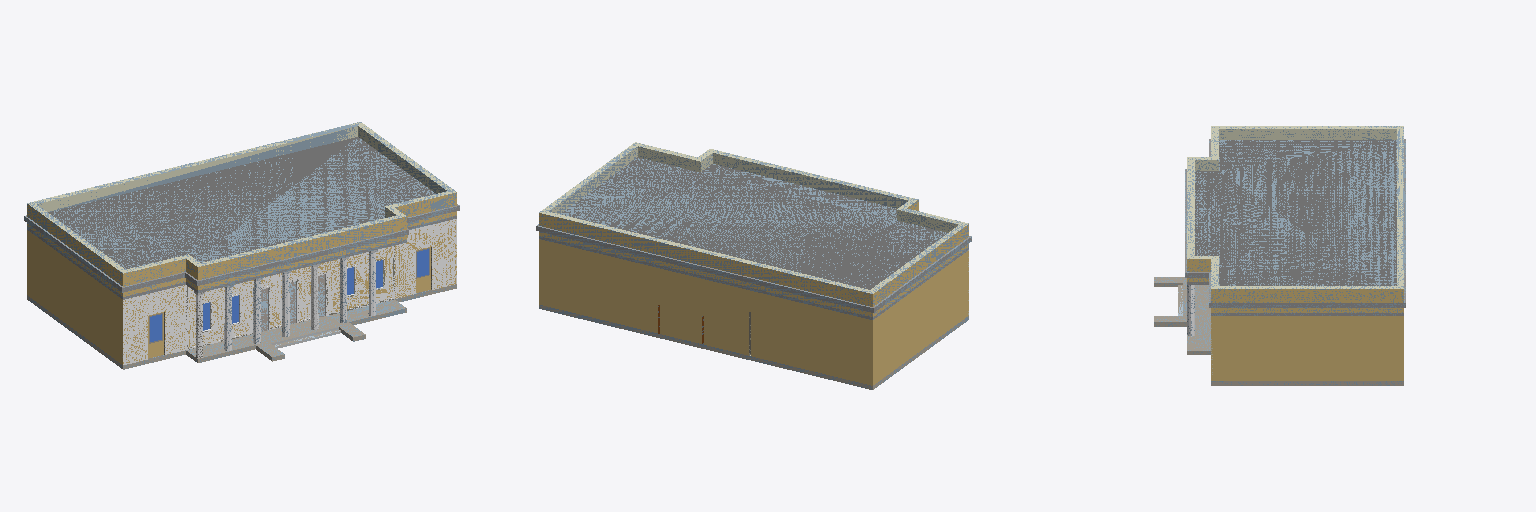
The model's file is dian.obj.
3 renders of one model, left to right at view 1: azimuth 30°, elevation 25°; view 2: azimuth 150°, elevation 25°; view 3: azimuth 270°, elevation 25°, orthographic.
Parts seen in each view (by area): view 1: Mesh11 Group4 Group3 Group2 Group1 Model, Mesh5 Top_5_1 Group4 Group3 Group2 Group1 Model; view 2: Mesh11 Group4 Group3 Group2 Group1 Model, Mesh5 Top_5_1 Group4 Group3 Group2 Group1 Model; view 3: Mesh11 Group4 Group3 Group2 Group1 Model, Mesh5 Top_5_1 Group4 Group3 Group2 Group1 Model.
Boxes of the visible parts, x1=… form: Mesh11 Group4 Group3 Group2 Group1 Model: x1=24, y1=122, x2=459, y2=369; Mesh5 Top_5_1 Group4 Group3 Group2 Group1 Model: x1=48, y1=137, x2=435, y2=268; Mesh11 Group4 Group3 Group2 Group1 Model: x1=536, y1=142, x2=971, y2=389; Mesh5 Top_5_1 Group4 Group3 Group2 Group1 Model: x1=561, y1=157, x2=946, y2=289; Mesh11 Group4 Group3 Group2 Group1 Model: x1=1154, y1=126, x2=1405, y2=385; Mesh5 Top_5_1 Group4 Group3 Group2 Group1 Model: x1=1195, y1=140, x2=1396, y2=285.
Bounding box in the file's own units: 24.64 × 6.71 × 15.98.